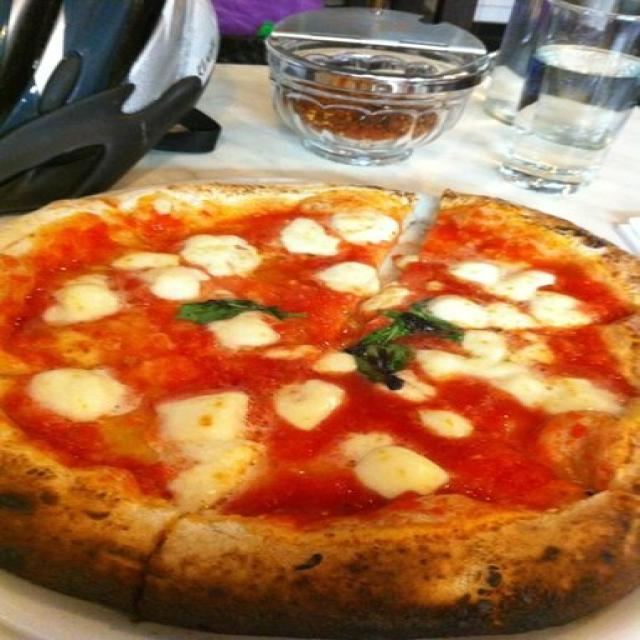Basil: (376, 307, 462, 381), (173, 298, 299, 320)
Cheese: (469, 332, 628, 417), (456, 266, 585, 322), (171, 395, 244, 484), (34, 368, 133, 424), (349, 435, 441, 495), (121, 242, 203, 305), (175, 227, 258, 276), (52, 272, 114, 328), (280, 373, 322, 440), (332, 212, 397, 242), (285, 220, 330, 250), (331, 260, 367, 290), (221, 320, 274, 340), (424, 407, 468, 431), (316, 354, 364, 371)
Pizza: (0, 184, 640, 638)
